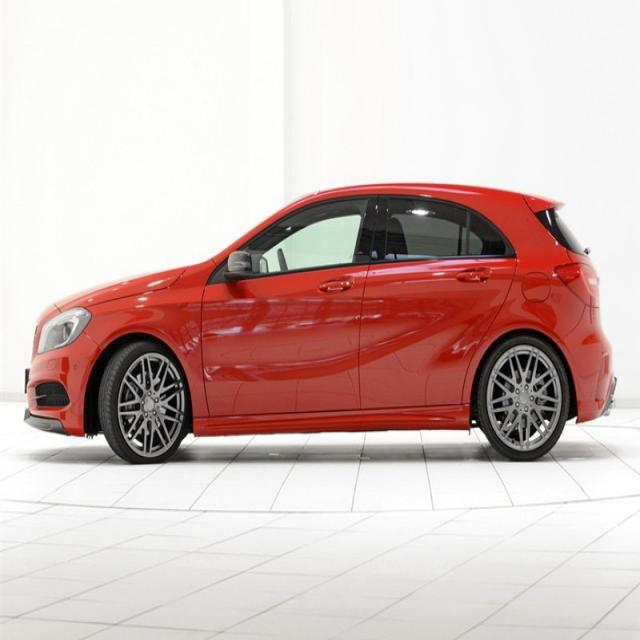back_left_side_light: (553, 262, 601, 308)
door: (361, 188, 521, 416)
front_bumper: (26, 302, 101, 436)
front_glass: (538, 208, 590, 257)
front_left_side_door: (201, 191, 381, 419)
front_left_side_light: (36, 304, 93, 356)
front_left_side_mirror: (228, 248, 254, 284)
rear_bumper: (560, 306, 614, 421)
wheel: (480, 335, 569, 462), (104, 340, 188, 465)
